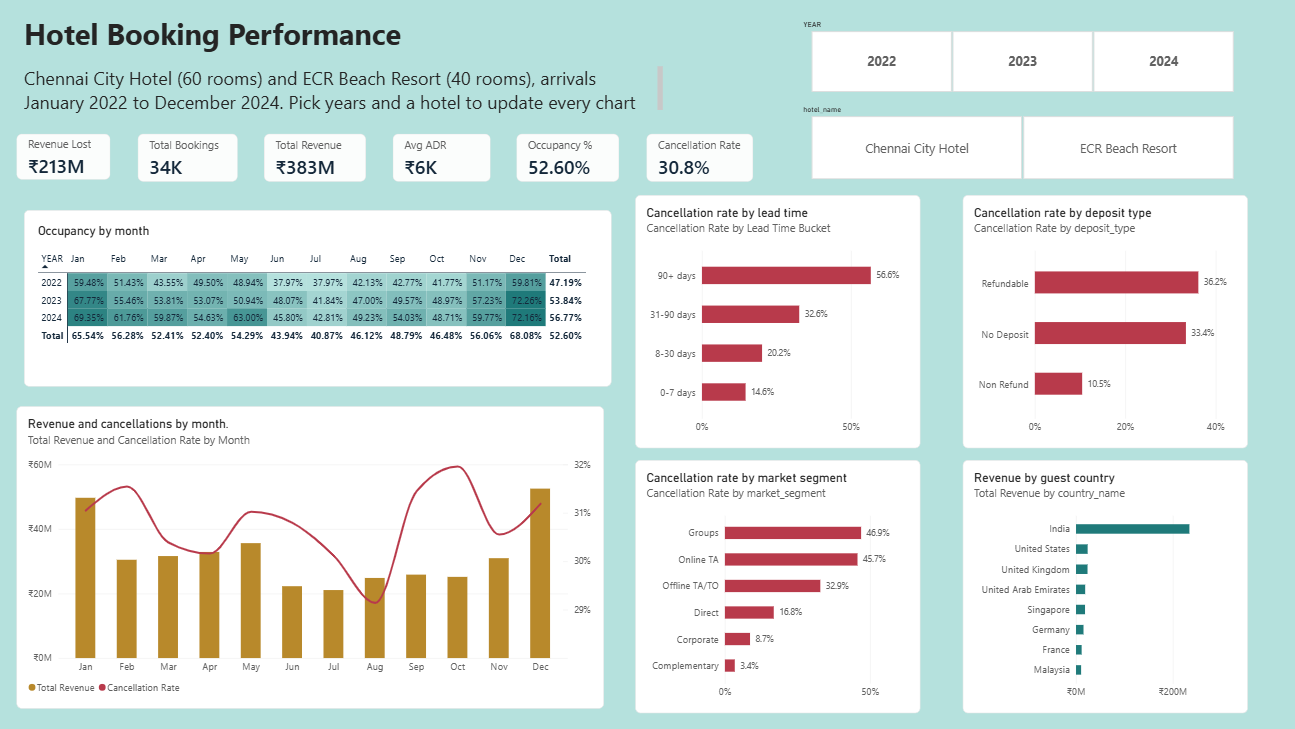

The dashboard page shown, as its layout file describes it:
{"tool":"powerbi","page":{"name":"Page 1","canvas":[1920,1080],"ordinal":0},"visuals":[{"type":"slicer","fields":{"Values":["dimhotel.hotel_name"]},"box":[1182.6,155.2,664.5,111.6],"z":0},{"type":"clusteredBarChart","title":"Cancellation rate by lead time","fields":{"Category":["factbookings.Lead Time Bucket"],"Y":["factbookings.Cancellation Rate"]},"box":[971.5,294.8,422.1,375],"z":0},{"type":"slicer","fields":{"Values":["DimDate.Year"]},"box":[1182.6,29.7,664.5,108.1],"z":1000},{"type":"clusteredBarChart","title":"Cancellation rate by deposit type","fields":{"Category":["factbookings.deposit_type"],"Y":["factbookings.Cancellation Rate"]},"box":[1456.4,294.8,422.1,375],"z":1000},{"type":"cardVisual","fields":{"Data":["factbookings.Total Bookings"]},"box":[204.8,198.8,148,71.4],"z":2000},{"type":"cardVisual","fields":{"Data":["factbookings.Total Revenue"]},"box":[391.9,198.8,151.4,71.4],"z":3000},{"type":"clusteredBarChart","title":"Revenue by guest country","fields":{"Category":["dimcountry.country_name"],"Y":["factbookings.Total Revenue"]},"box":[598.3,614,341.9,448.3],"z":3000},{"type":"cardVisual","fields":{"Data":["factbookings.Revenue Lost"]},"box":[26.2,198.8,139.5,68],"z":4000},{"type":"cardVisual","fields":{"Data":["factbookings.Avg ADR"]},"box":[582.5,198.8,145.7,71.4],"z":5000},{"type":"cardVisual","fields":{"Data":["factbookings.Occupancy %"]},"box":[767.3,198.8,152.9,71.4],"z":6000},{"type":"cardVisual","fields":{"Data":["factbookings.Cancellation Rate"]},"box":[959.3,198.8,158.6,71.4],"z":7000},{"type":"pivotTable","title":"Occupancy by month","fields":{"Columns":["DimDate.Month"],"Rows":["DimDate.Year"],"Values":["factbookings.Occupancy %"]},"box":[26.2,317.4,870.4,261.6],"z":8000},{"type":"lineClusteredColumnComboChart","title":"Revenue and cancellations by month.","fields":{"Category":["DimDate.Month"],"Y":["factbookings.Total Revenue"],"Y2":["factbookings.Cancellation Rate"]},"box":[26.2,614,547.7,448.3],"z":9000},{"type":"textbox","box":[37,0,1079.6,113],"z":10000},{"type":"textbox","box":[959,392,159,375],"z":11000},{"type":"textbox","box":[0,777,422,303],"z":12000},{"type":"textbox","box":[36.6,99.4,947.1,99.4],"z":13000},{"type":"textbox","box":[971.5,683.7,907,378.5],"z":13001}]}

Visuals, with their boxes in screenshot pixels (x1, y1, x2, y2), scaled from the page's 1920x1080 canvas onto the 1295x729 screenshot:
slicer - dimhotel.hotel_name: <box>798,105,1246,180</box>
"Cancellation rate by lead time" clusteredBarChart: <box>655,199,940,452</box>
slicer - DimDate.Year: <box>798,20,1246,93</box>
"Cancellation rate by deposit type" clusteredBarChart: <box>982,199,1267,452</box>
cardVisual - factbookings.Total Bookings: <box>138,134,238,182</box>
cardVisual - factbookings.Total Revenue: <box>264,134,366,182</box>
"Revenue by guest country" clusteredBarChart: <box>404,414,634,717</box>
cardVisual - factbookings.Revenue Lost: <box>18,134,112,180</box>
cardVisual - factbookings.Avg ADR: <box>393,134,491,182</box>
cardVisual - factbookings.Occupancy %: <box>518,134,621,182</box>
cardVisual - factbookings.Cancellation Rate: <box>647,134,754,182</box>
"Occupancy by month" pivotTable: <box>18,214,605,391</box>
"Revenue and cancellations by month." lineClusteredColumnComboChart: <box>18,414,387,717</box>
textbox: <box>25,0,753,76</box>
textbox: <box>647,265,754,518</box>
textbox: <box>0,524,285,728</box>
textbox: <box>25,67,663,134</box>
textbox: <box>655,461,1267,717</box>
